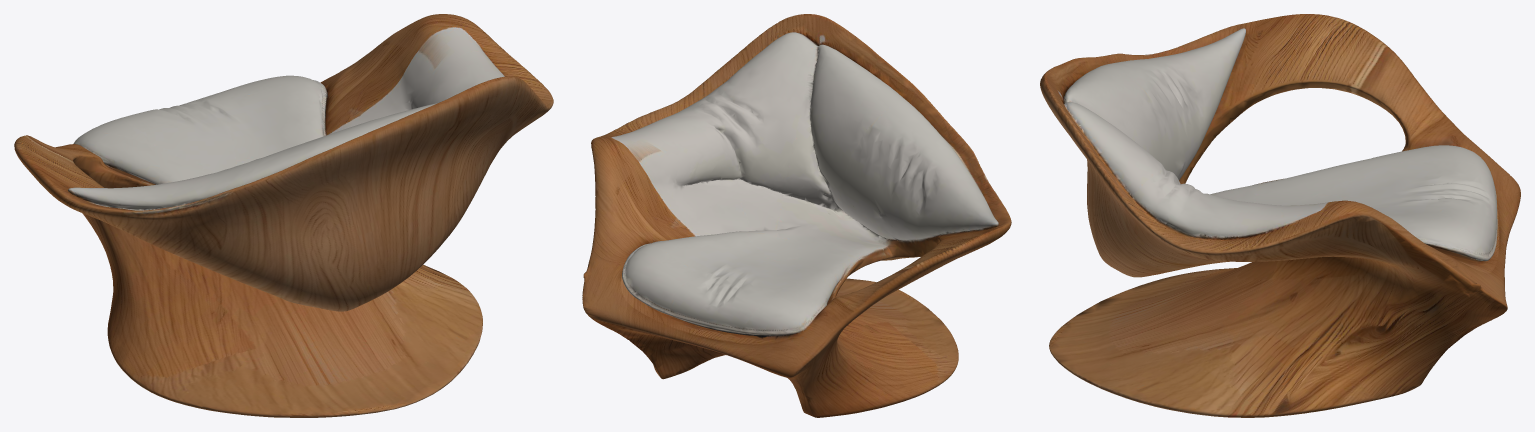
File: WAVE-LC-001.glb
3 views of the same model, side by side, from view 1: azimuth 30°, elevation 25°; view 2: azimuth 150°, elevation 25°; view 3: azimuth 270°, elevation 25° (orthographic). The views are drawn at different scales.
Parts seen in each view (by area): view 1: tripo_node_a06c1afc-bc66-490d-beca-d1e31e343900; view 2: tripo_node_a06c1afc-bc66-490d-beca-d1e31e343900; view 3: tripo_node_a06c1afc-bc66-490d-beca-d1e31e343900.
Boxes of the visible parts, box(x1,y1,x2,y2) form: tripo_node_a06c1afc-bc66-490d-beca-d1e31e343900: box(14, 14, 553, 417); tripo_node_a06c1afc-bc66-490d-beca-d1e31e343900: box(582, 14, 1011, 417); tripo_node_a06c1afc-bc66-490d-beca-d1e31e343900: box(1040, 14, 1520, 417).
Bounding box in the file's own units: 0.9997 × 0.6373 × 0.8778.
Materials: 1 (1 with a texture image).
